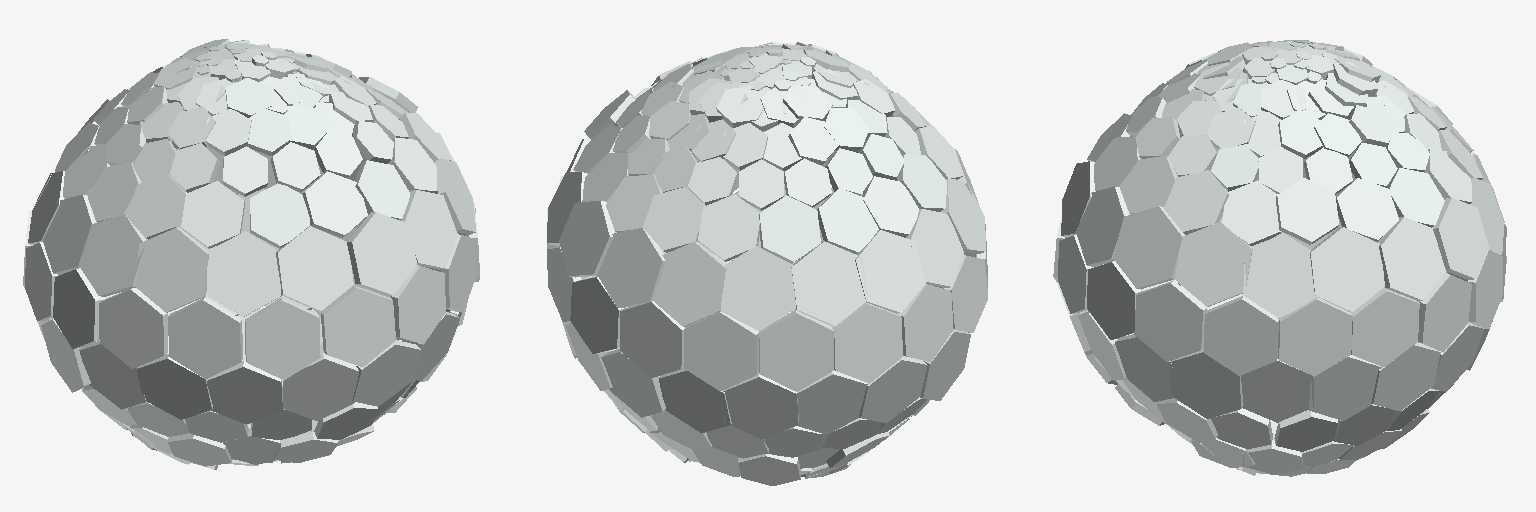
3 views of the same model, side by side, from view 1: azimuth 30°, elevation 25°; view 2: azimuth 150°, elevation 25°; view 3: azimuth 270°, elevation 25° (orthographic).
Parts seen in each view (by area): view 1: group[number redacted], group[number redacted], group[number redacted], group[number redacted], group[number redacted], group[number redacted], group[number redacted], group[number redacted], group[number redacted], group[number redacted], group[number redacted], group[number redacted] (+28 smaller); view 2: group[number redacted], group[number redacted], group[number redacted], group[number redacted], group[number redacted], group[number redacted], group[number redacted], group[number redacted], group[number redacted], group[number redacted], group[number redacted], group[number redacted] (+28 smaller); view 3: group[number redacted], group[number redacted], group[number redacted], group[number redacted], group[number redacted], group[number redacted], group[number redacted], group[number redacted], group[number redacted], group[number redacted], group[number redacted], group[number redacted] (+28 smaller).
Boxes of the visible parts, box(x1,y1,x2,y2) form: group[number redacted]: box(276, 226, 353, 310); group[number redacted]: box(245, 298, 320, 379); group[number redacted]: box(207, 231, 281, 316); group[number redacted]: box(168, 297, 242, 378); group[number redacted]: box(135, 227, 208, 312); group[number redacted]: box(321, 285, 395, 366); group[number redacted]: box(99, 288, 167, 368); group[number redacted]: box(347, 212, 416, 294); group[number redacted]: box(79, 214, 145, 296); group[number redacted]: box(283, 353, 358, 420); group[number redacted]: box(207, 361, 282, 424); group[number redacted]: box(137, 354, 212, 419); group[number redacted]: box(759, 310, 833, 391); group[number redacted]: box(719, 246, 795, 330); group[number redacted]: box(684, 311, 758, 391); group[number redacted]: box(791, 241, 867, 326); group[number redacted]: box(652, 242, 725, 326); group[number redacted]: box(832, 303, 902, 383); group[number redacted]: box(855, 230, 925, 312); group[number redacted]: box(597, 228, 665, 307); group[number redacted]: box(620, 301, 684, 378); group[number redacted]: box(723, 372, 798, 439); group[number redacted]: box(797, 370, 867, 434); group[number redacted]: box(559, 201, 614, 277); group[number redacted]: box(1310, 227, 1384, 311); group[number redacted]: box(1175, 222, 1252, 306); group[number redacted]: box(1203, 296, 1278, 375); group[number redacted]: box(1278, 297, 1352, 376); group[number redacted]: box(1243, 233, 1317, 317); group[number redacted]: box(1134, 280, 1206, 361); group[number redacted]: box(1113, 206, 1184, 288); group[number redacted]: box(1350, 288, 1419, 366); group[number redacted]: box(1379, 217, 1445, 300); group[number redacted]: box(1169, 348, 1243, 418); group[number redacted]: box(1241, 359, 1313, 422); group[number redacted]: box(1432, 198, 1489, 279).
Bounding box in the file's own units: 0.2622 × 0.2591 × 0.2636.